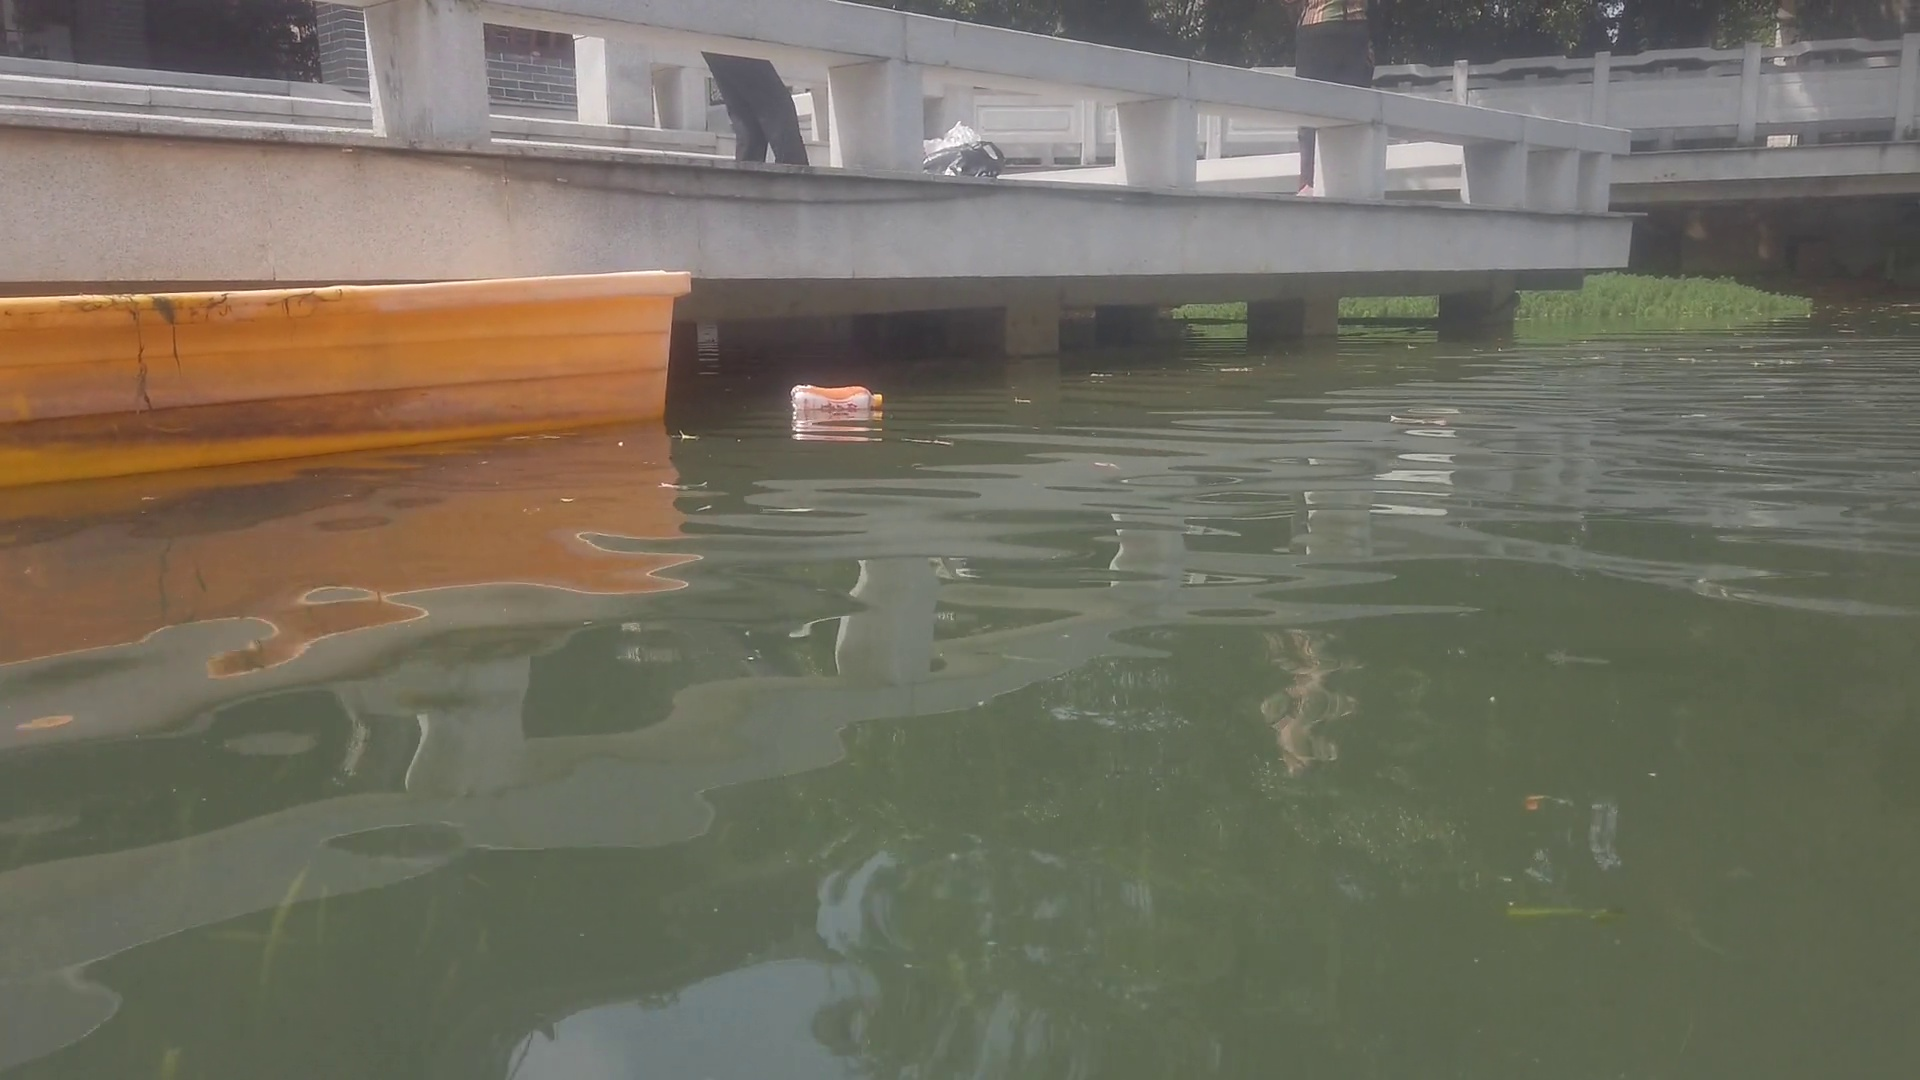bottle: (783, 382, 885, 411)
